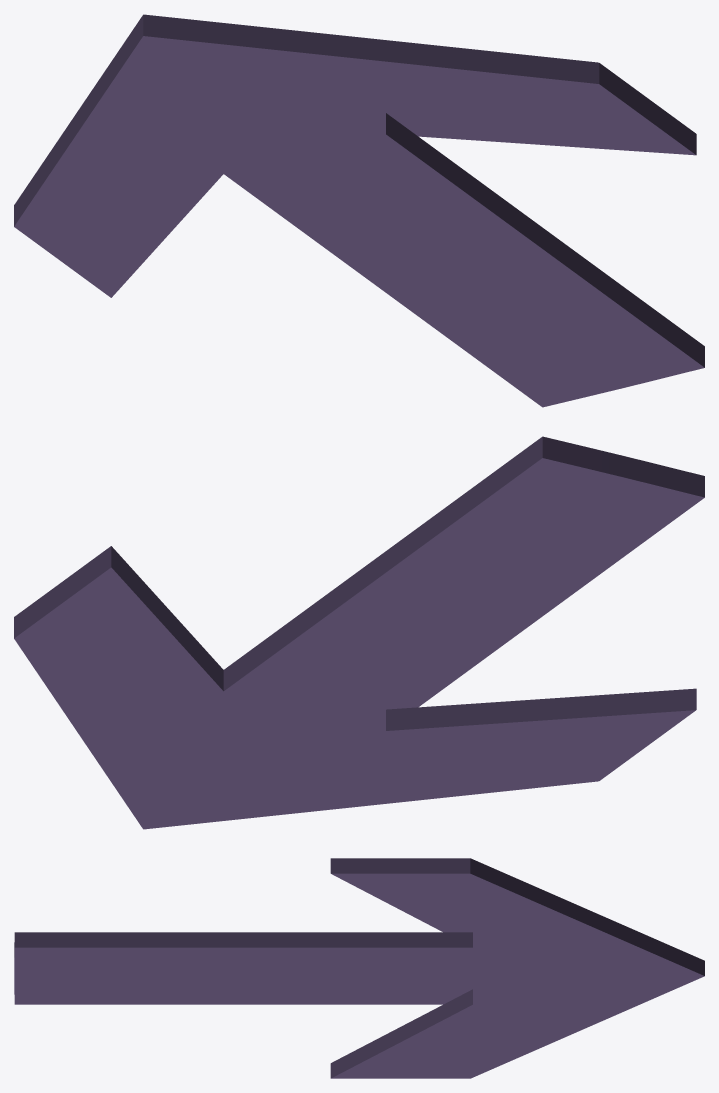
The model's file is purplearrow.glb.
3 views of the same model, one above another, from view 1: azimuth 30°, elevation 25°; view 2: azimuth 150°, elevation 25°; view 3: azimuth 270°, elevation 25° (orthographic). The views are drawn at different scales.
Parts seen in each view (by area): view 1: Purple_Arrow; view 2: Purple_Arrow; view 3: Purple_Arrow.
Boxes of the visible parts, x1,y1,x2,y2 form: Purple_Arrow: (14,14,704,407); Purple_Arrow: (14,436,704,829); Purple_Arrow: (14,858,704,1078).
Size of the model in its own units: 25.23 by 0.8863 by 35.92.
